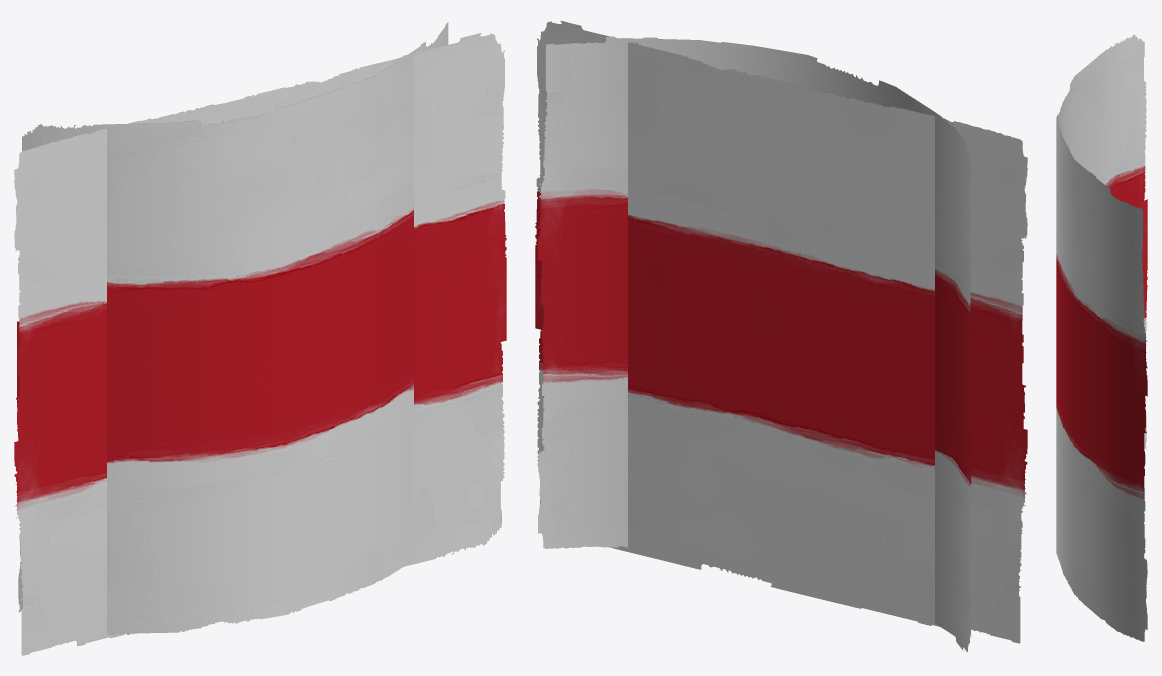
File: signs.fbx
3 renders of one model, left to right at view 1: azimuth 30°, elevation 25°; view 2: azimuth 150°, elevation 25°; view 3: azimuth 270°, elevation 25°, orthographic. The views are drawn at different scales.
Visible parts, largest first — view 1: sign_curved, sign; view 2: sign, sign_curved; view 3: sign_curved.
Part boxes in pixels (left/top/right/bottom): sign_curved: left=17, top=22, right=448, bottom=635; sign: left=14, top=33, right=506, bottom=655; sign: left=535, top=20, right=1027, bottom=643; sign_curved: left=538, top=36, right=971, bottom=651; sign_curved: left=1056, top=35, right=1147, bottom=641.
Size of the model in its own units: 40 by 40 by 7.47.
